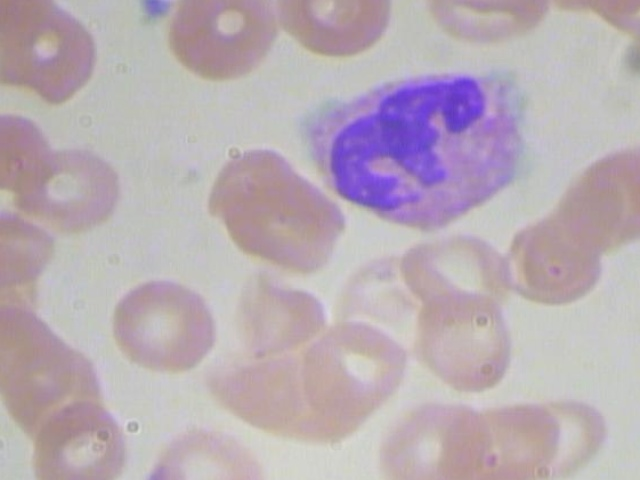Platelets: (134, 0, 176, 28)
RBC: (197, 141, 348, 278), (105, 268, 223, 375), (299, 312, 413, 421), (408, 289, 523, 397), (158, 0, 287, 88), (492, 211, 606, 303), (12, 145, 123, 237), (374, 392, 488, 480), (453, 392, 566, 480), (26, 391, 128, 480), (270, 0, 399, 62), (419, 0, 552, 55), (556, 0, 640, 47)
WBC: (273, 55, 539, 236)
